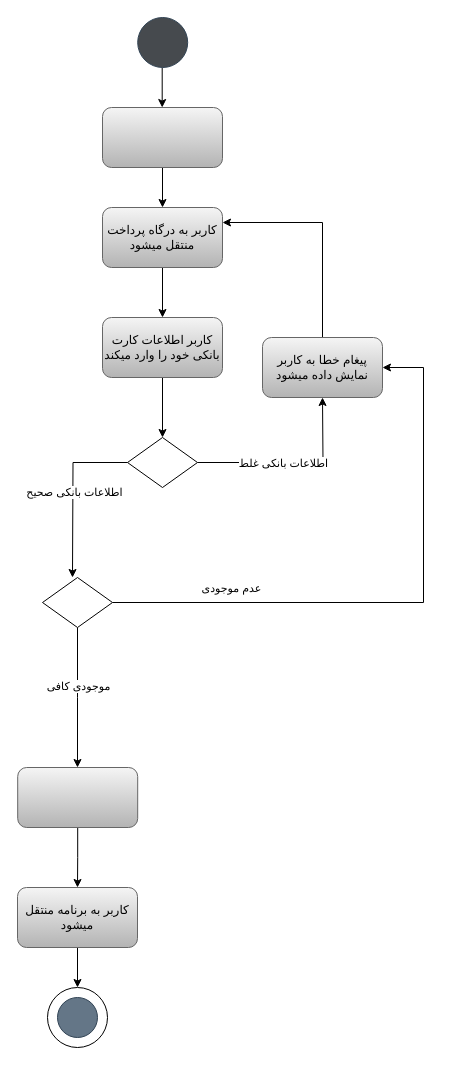
The diagram is 449 pixels wide and 1065 high, and some of its shapes have lost their labels. Each missing label, with the centre of its shape:
"پرداخت با موفقیت انجام میشود" goes at (x=77, y=797).
"کاربر گزینه پرداخت را انتخاب میکند" goes at (x=162, y=137).
